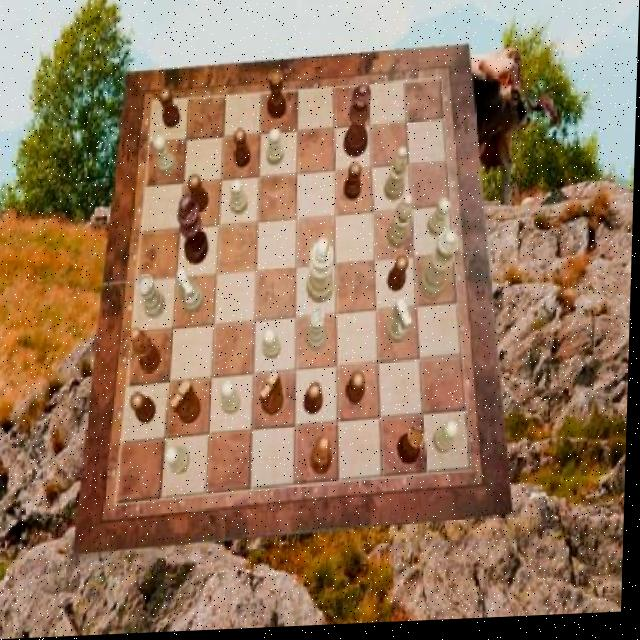bishop: (131, 328, 164, 374), (313, 439, 337, 478)
black-bishop: (178, 194, 213, 267)
black-king: (173, 380, 205, 427), (262, 373, 288, 419)
black-knight: (158, 91, 181, 131), (133, 394, 160, 427), (189, 176, 212, 214), (388, 259, 410, 296), (235, 131, 253, 172), (346, 166, 364, 204), (349, 374, 368, 409), (306, 385, 325, 418)
black-pawn: (343, 86, 372, 161)
black-queen: (399, 431, 428, 470), (268, 71, 288, 123)
black-rook: (388, 199, 413, 254), (386, 150, 410, 205)
white-bishop: (308, 240, 337, 307)
white-king: (179, 271, 207, 316), (388, 302, 414, 345)
white-knight: (154, 137, 179, 177), (428, 202, 452, 242), (437, 424, 462, 458), (222, 382, 244, 417), (230, 181, 250, 217), (168, 447, 193, 475), (268, 132, 286, 170), (264, 330, 284, 363)
white-pawn: (420, 233, 462, 304)
white-queen: (139, 274, 169, 320), (307, 310, 329, 354)
